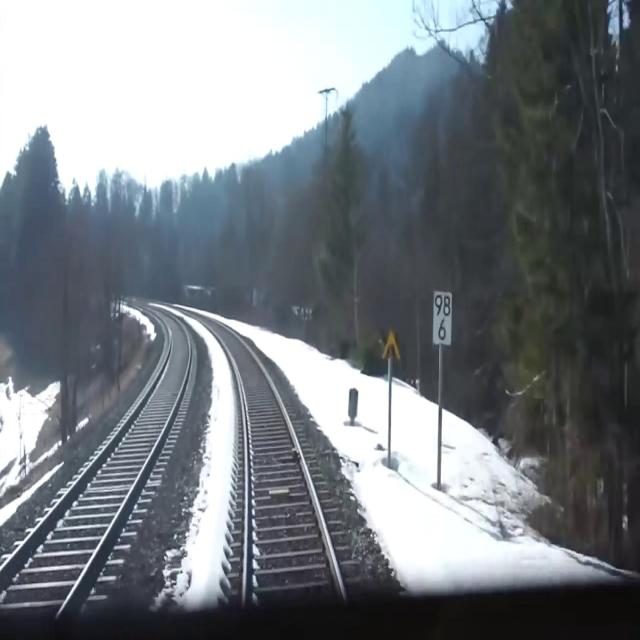rail-track: (0, 311, 188, 639), (200, 317, 355, 639)
